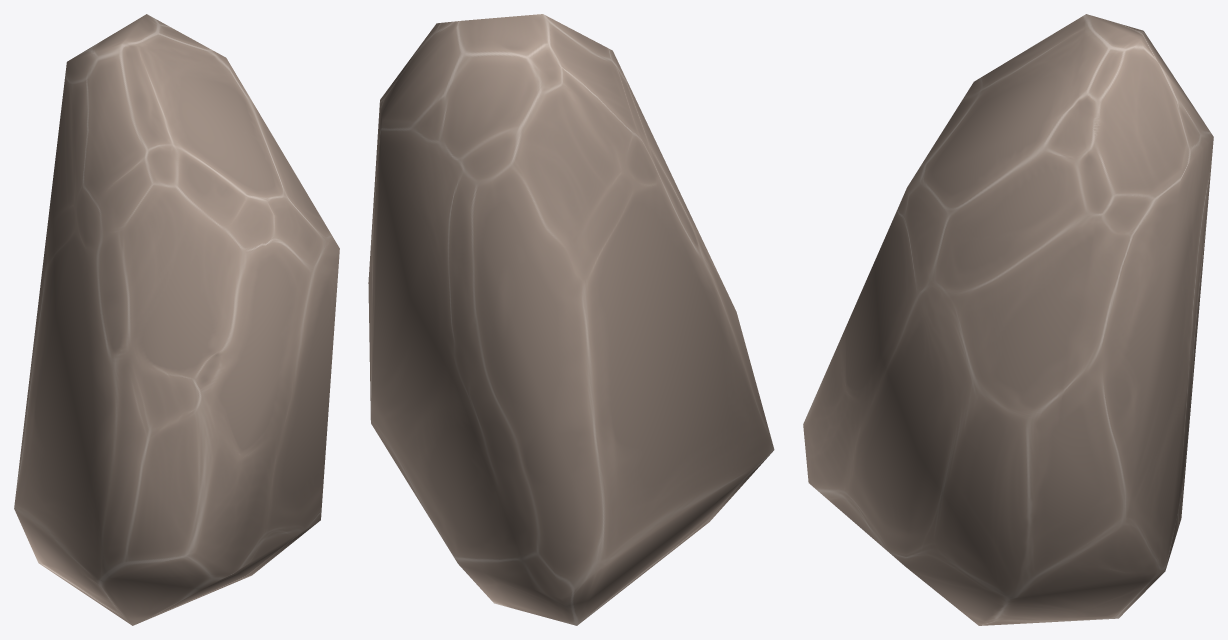
The model's file is Stone_2_Variation_2.fbx.
3 renders of one model, left to right at view 1: azimuth 30°, elevation 25°; view 2: azimuth 150°, elevation 25°; view 3: azimuth 270°, elevation 25°, orthographic. The views are drawn at different scales.
Parts seen in each view (by area): view 1: Stone_2_Variation_2; view 2: Stone_2_Variation_2; view 3: Stone_2_Variation_2.
Boxes of the visible parts, x1=… form: Stone_2_Variation_2: x1=14, y1=14, x2=339, y2=625; Stone_2_Variation_2: x1=368, y1=14, x2=774, y2=625; Stone_2_Variation_2: x1=803, y1=14, x2=1213, y2=625.
Bounding box in the file's own units: 82.94 × 146 × 92.49.
